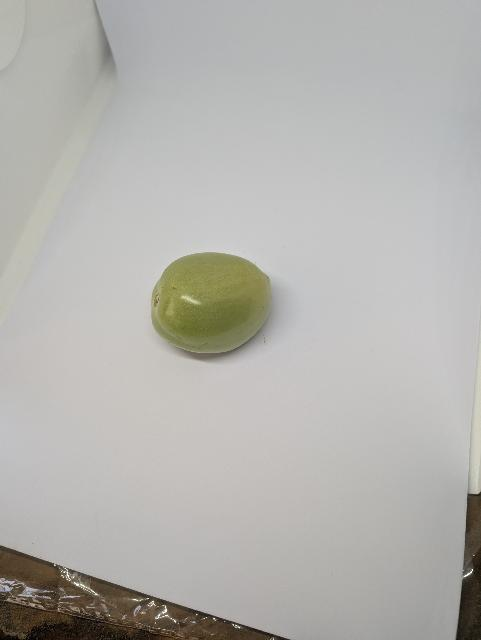green: (141, 247, 292, 367)
